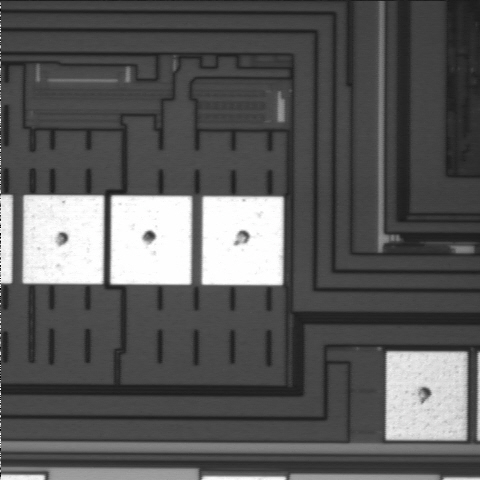pad: (110, 196, 192, 285), (23, 195, 104, 284), (202, 196, 283, 285), (386, 352, 467, 440)
